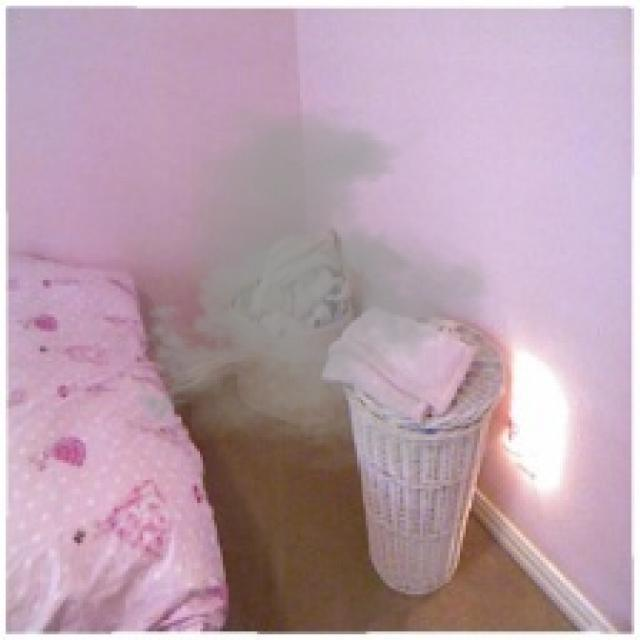Smoke: (123, 102, 506, 472)
